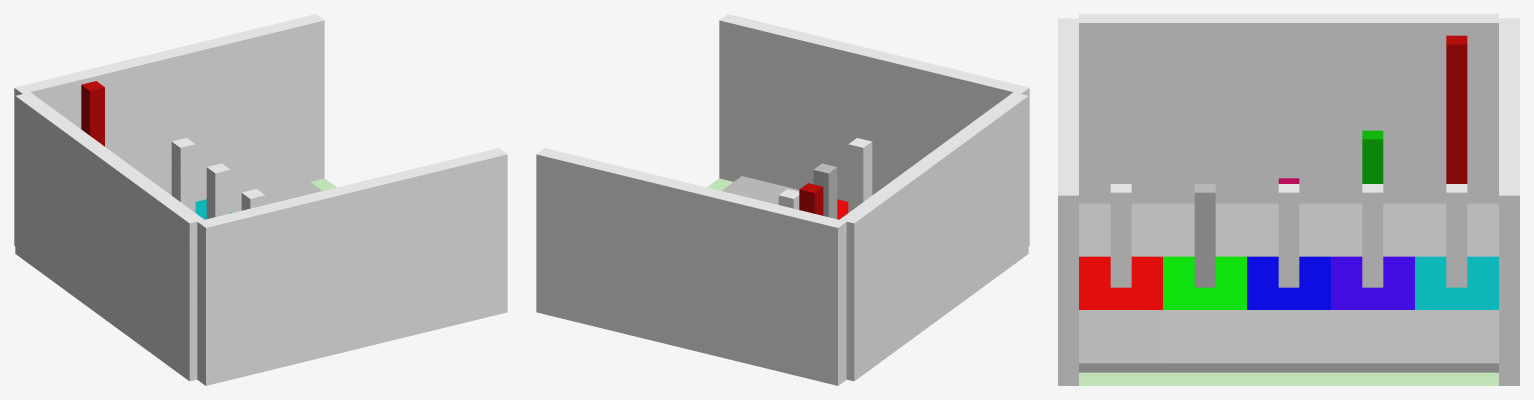
File: testbed.obj
The picture shows the model from 3 angles, left to right: view 1: azimuth 30°, elevation 25°; view 2: azimuth 150°, elevation 25°; view 3: azimuth 270°, elevation 25°; orthographic projection. The views are drawn at different scales.
Visible parts, largest first — view 1: Cube.011_Cube.012, Cube.012_Cube.013, Cube_Cube.001, Cube.019_Cube.020, Cube.010_Cube.011, Cube.023_Cube.024, Cube.018_Cube.019, Cube.020_Cube.021; view 2: Cube.012_Cube.013, Cube.011_Cube.012, Cube_Cube.001, Cube.022_Cube.023, Cube.027_Cube.028, Cube.021_Cube.022, Cube.010_Cube.011; view 3: Cube_Cube.001, Cube.011_Cube.012, Cube.012_Cube.013, Plane, Cube.023_Cube.024, Cube.024_Cube.025, Cube.025_Cube.026, Cube.026_Cube.027, Cube.027_Cube.028, Cube.015_Cube.016, Cube.017_Cube.018, Cube.016_Cube.017 (+14 smaller).
Part boxes in pixels (<box>): Cube.011_Cube.012: <box>197,148,507,385</box>; Cube.012_Cube.013: <box>14,14,324,245</box>; Cube_Cube.001: <box>15,92,204,381</box>; Cube.019_Cube.020: <box>171,138,195,212</box>; Cube.010_Cube.011: <box>81,81,104,146</box>; Cube.023_Cube.024: <box>230,176,321,212</box>; Cube.018_Cube.019: <box>206,163,230,218</box>; Cube.020_Cube.021: <box>241,189,265,210</box>; Cube.012_Cube.013: <box>536,148,846,385</box>; Cube.011_Cube.012: <box>719,14,1029,245</box>; Cube_Cube.001: <box>839,92,1028,381</box>; Cube.022_Cube.023: <box>848,138,872,212</box>; Cube.027_Cube.028: <box>722,176,799,204</box>; Cube.021_Cube.022: <box>813,163,837,218</box>; Cube.010_Cube.011: <box>799,183,823,215</box>; Cube_Cube.001: <box>1079,14,1498,203</box>; Cube.011_Cube.012: <box>1058,18,1078,385</box>; Cube.012_Cube.013: <box>1499,18,1519,385</box>; Plane: <box>1079,372,1498,385</box>; Cube.023_Cube.024: <box>1415,310,1498,372</box>; Cube.024_Cube.025: <box>1331,310,1414,372</box>; Cube.025_Cube.026: <box>1247,310,1330,372</box>; Cube.026_Cube.027: <box>1163,310,1246,372</box>; Cube.027_Cube.028: <box>1079,310,1162,372</box>; Cube.015_Cube.016: <box>1247,256,1330,309</box>; Cube.017_Cube.018: <box>1079,256,1162,309</box>; Cube.016_Cube.017: <box>1163,256,1246,309</box>.
Bounding box in the file's own units: 20.5 × 10.5 × 22.
